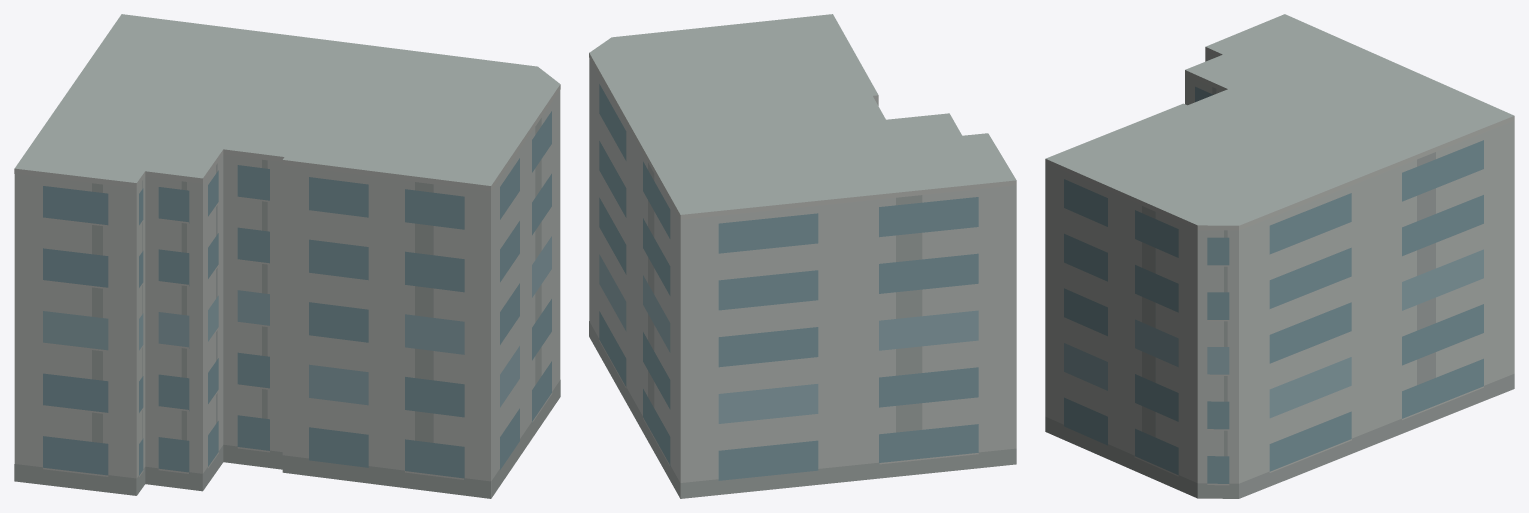
The model's file is survey-upis-32597103.glb.
3 renders of one model, left to right at view 1: azimuth 30°, elevation 25°; view 2: azimuth 150°, elevation 25°; view 3: azimuth 270°, elevation 25°, orthographic. The views are drawn at different scales.
Parts seen in each view (by area): view 1: survey-upis-32597103.tmp; view 2: survey-upis-32597103.tmp; view 3: survey-upis-32597103.tmp.
Boxes of the visible parts, x1,y1,x2,y2 form: survey-upis-32597103.tmp: (14, 14, 560, 498); survey-upis-32597103.tmp: (589, 14, 1016, 498); survey-upis-32597103.tmp: (1045, 14, 1514, 498).
Bounding box in the file's own units: 23.12 × 13.9 × 21.65.
